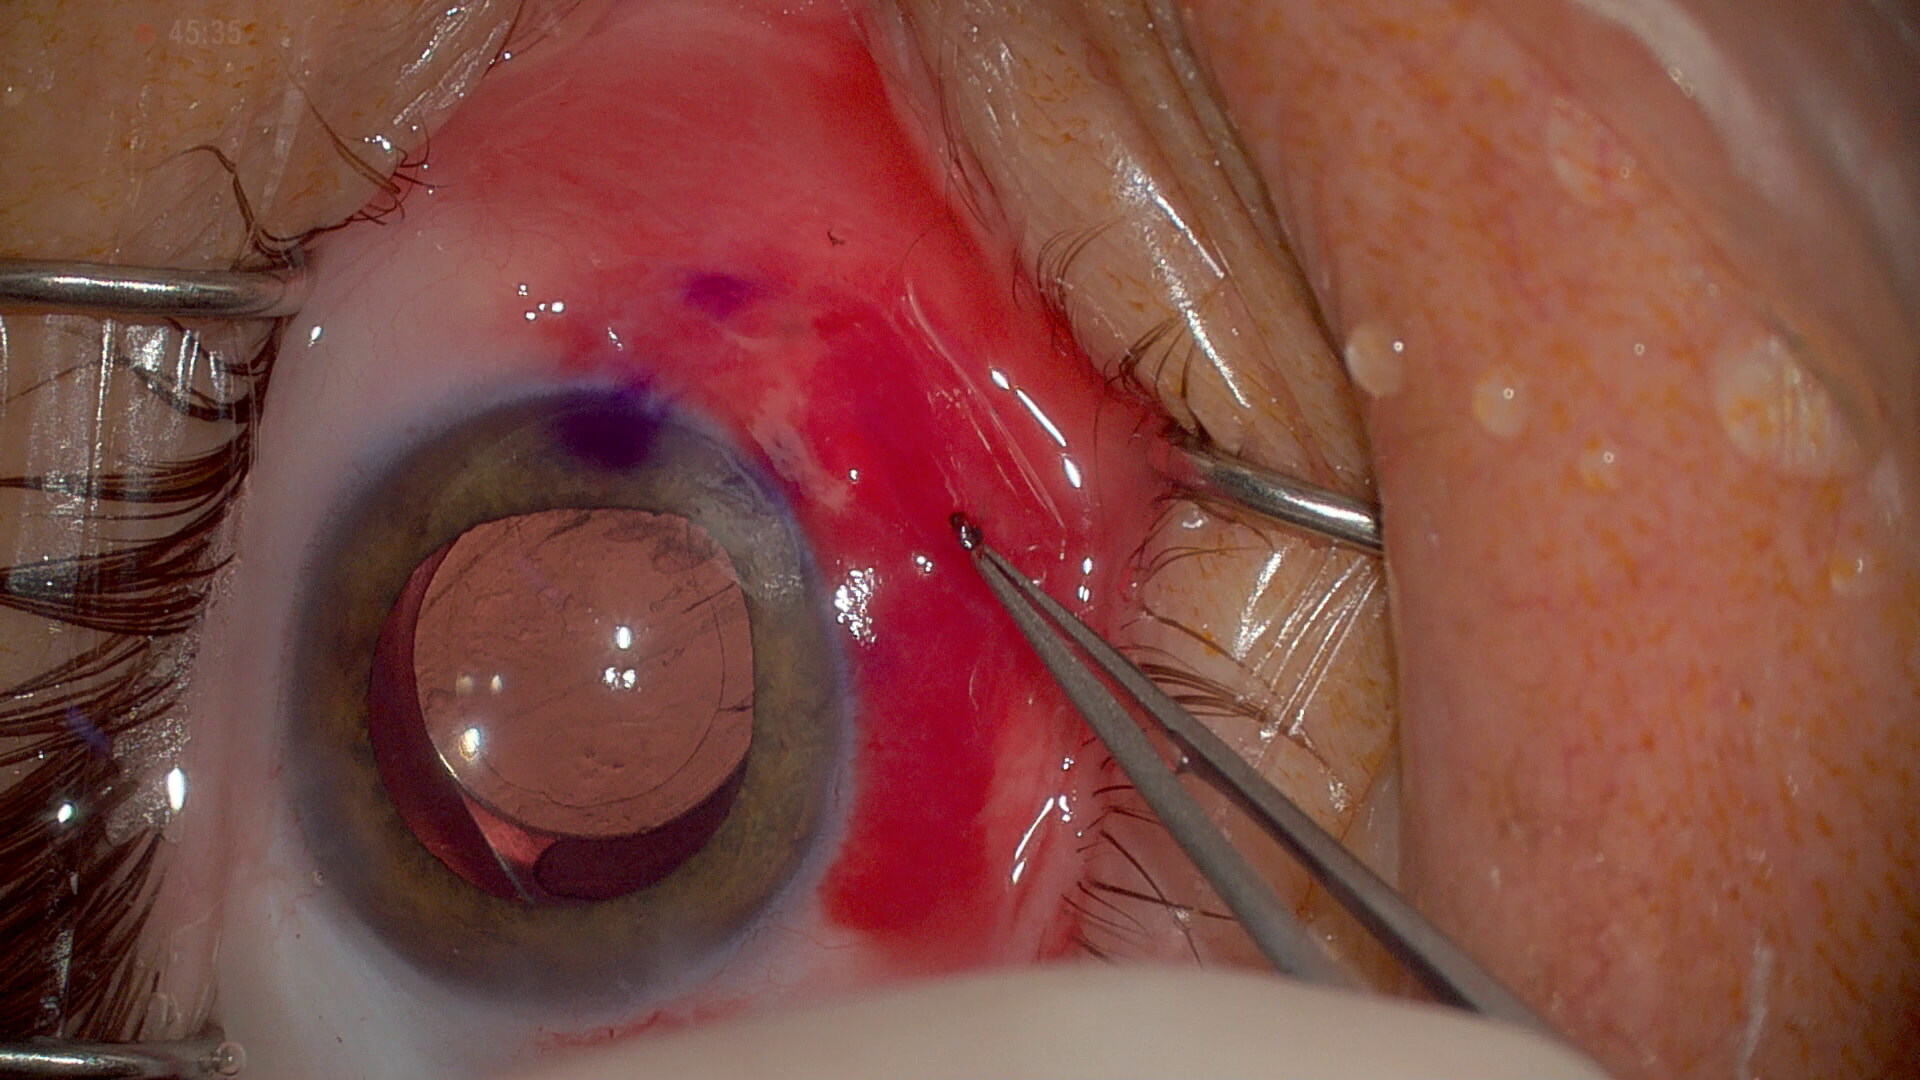iris: (286, 394, 842, 994)
pupil: (381, 507, 760, 912)
